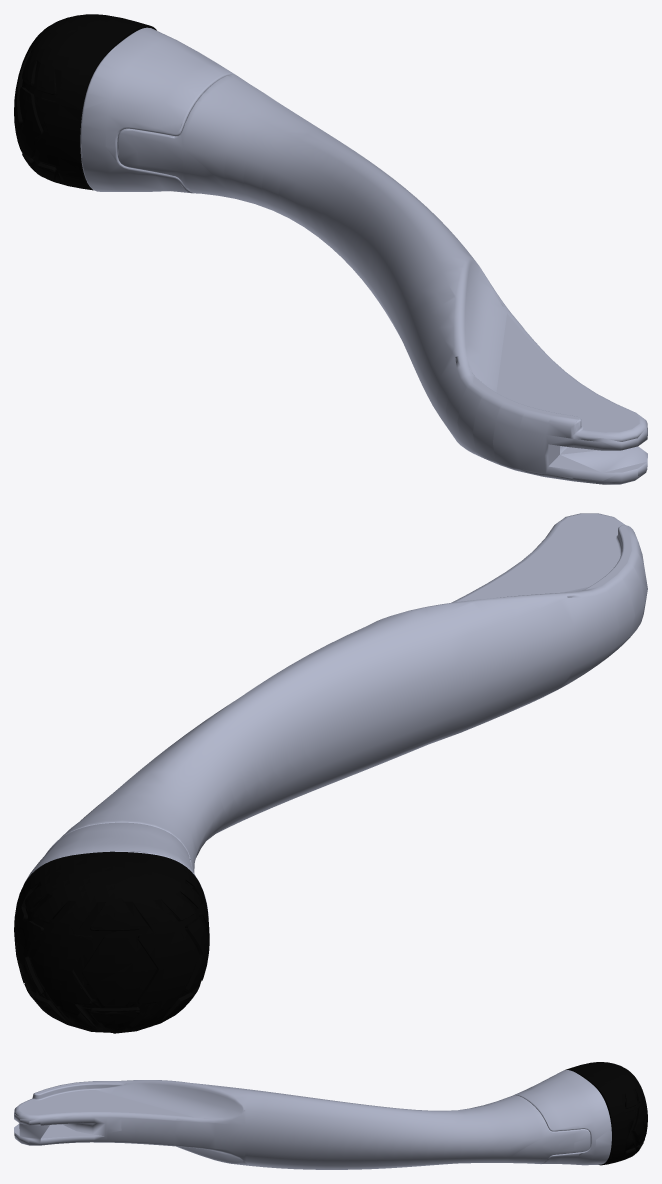
File: RR_calf.obj
3 views of the same model, one above another, from view 1: azimuth 30°, elevation 25°; view 2: azimuth 150°, elevation 25°; view 3: azimuth 270°, elevation 25° (orthographic). The views are drawn at different scales.
Parts seen in each view (by area): view 1: RR_calf; view 2: RR_calf; view 3: RR_calf.
Boxes of the visible parts, x1,y1,x2,y2 form: RR_calf: [14, 14, 647, 484]; RR_calf: [14, 513, 647, 1033]; RR_calf: [14, 1062, 647, 1169].
Size of the model in its own units: 0.0585 by 0.0398 by 0.267.
